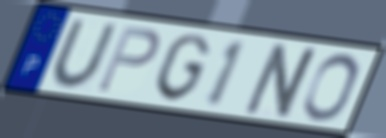1: (205, 39, 248, 109)
G: (152, 32, 214, 104)
N: (240, 41, 324, 121)
O: (300, 51, 362, 123)
P: (94, 23, 163, 95)
U: (50, 18, 120, 91)
